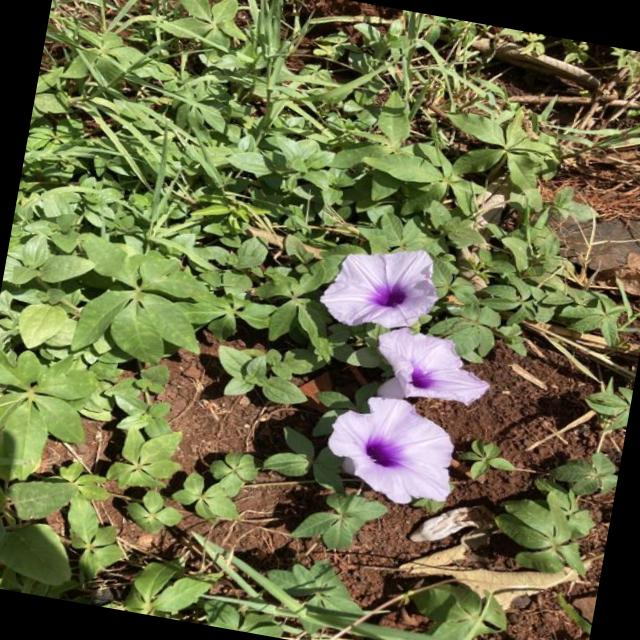ipomoea: (282, 232, 513, 518), (313, 384, 468, 514), (311, 232, 448, 344), (364, 322, 499, 416)
